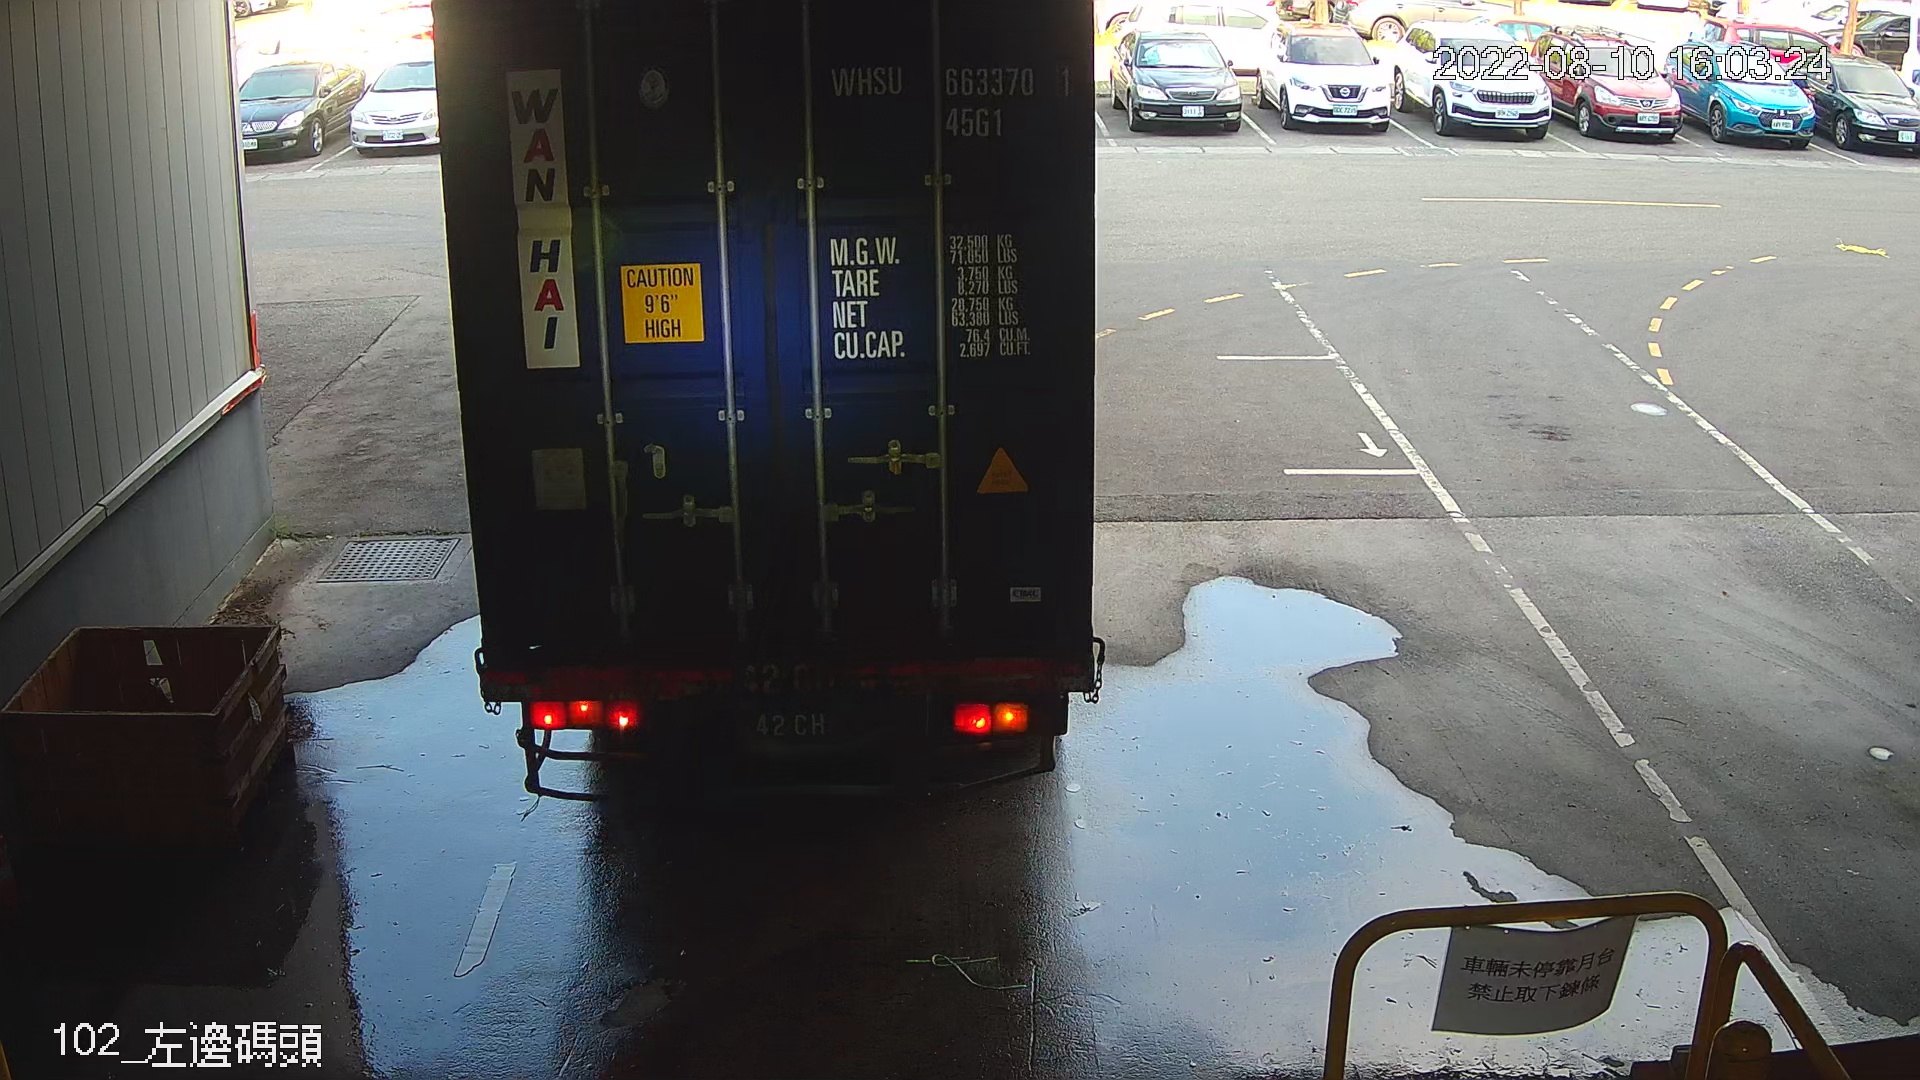container: (818, 47, 1084, 152)
